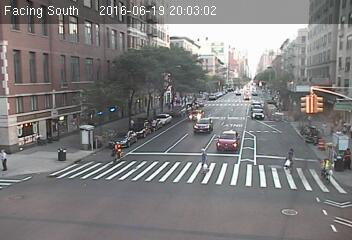neg: (310, 153, 334, 185), (37, 144, 60, 174), (8, 119, 26, 142), (34, 73, 51, 96), (54, 114, 71, 137), (91, 111, 106, 131), (109, 36, 124, 56), (254, 84, 269, 104), (195, 100, 209, 119), (109, 87, 123, 105), (153, 112, 166, 130)
pos: (280, 146, 299, 171), (194, 146, 212, 171), (109, 140, 126, 164)
